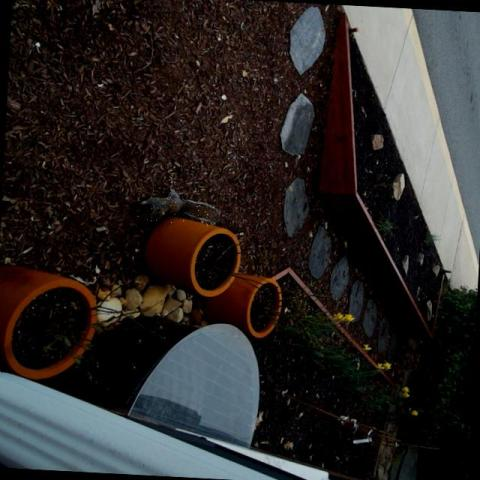small_animal: (134, 186, 222, 228)
